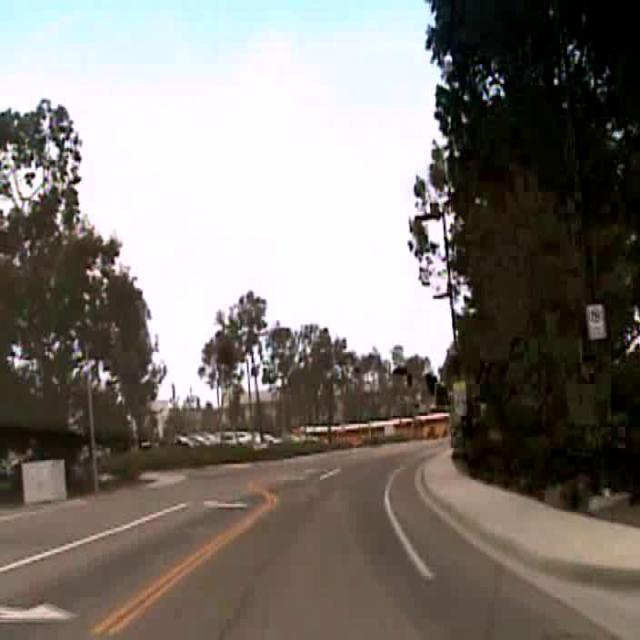speedLimit25: (452, 379, 467, 417)
